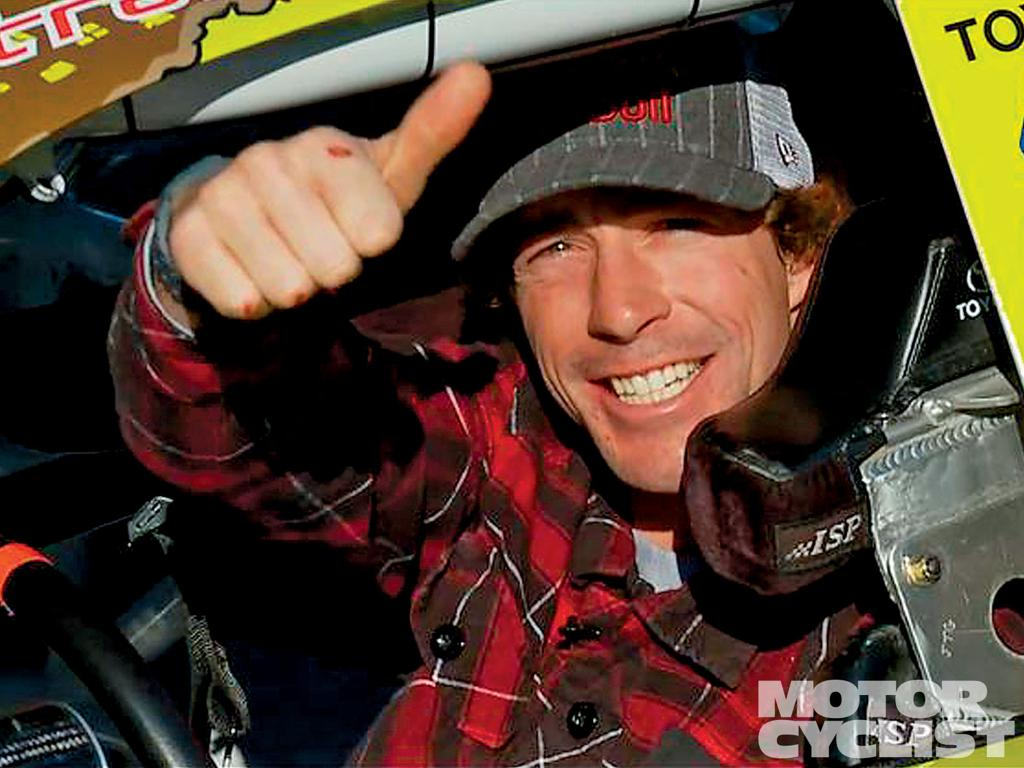face: (510, 168, 788, 490)
